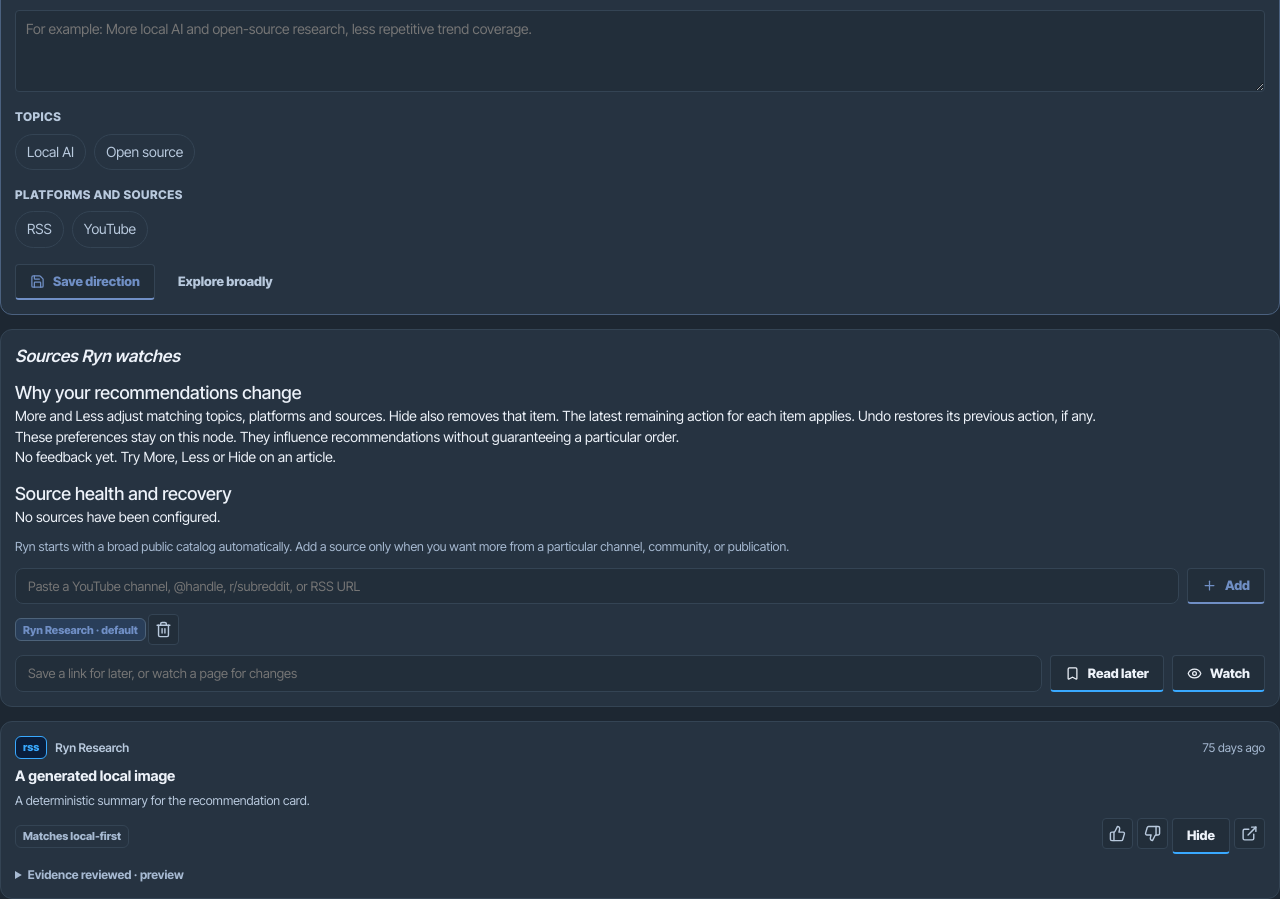
Test: DigestViewer formats › opens an image item without fetching live media
(page scrolled)
Click the button "A generated local image".
click(95, 776)  # box [15,765,1265,786]
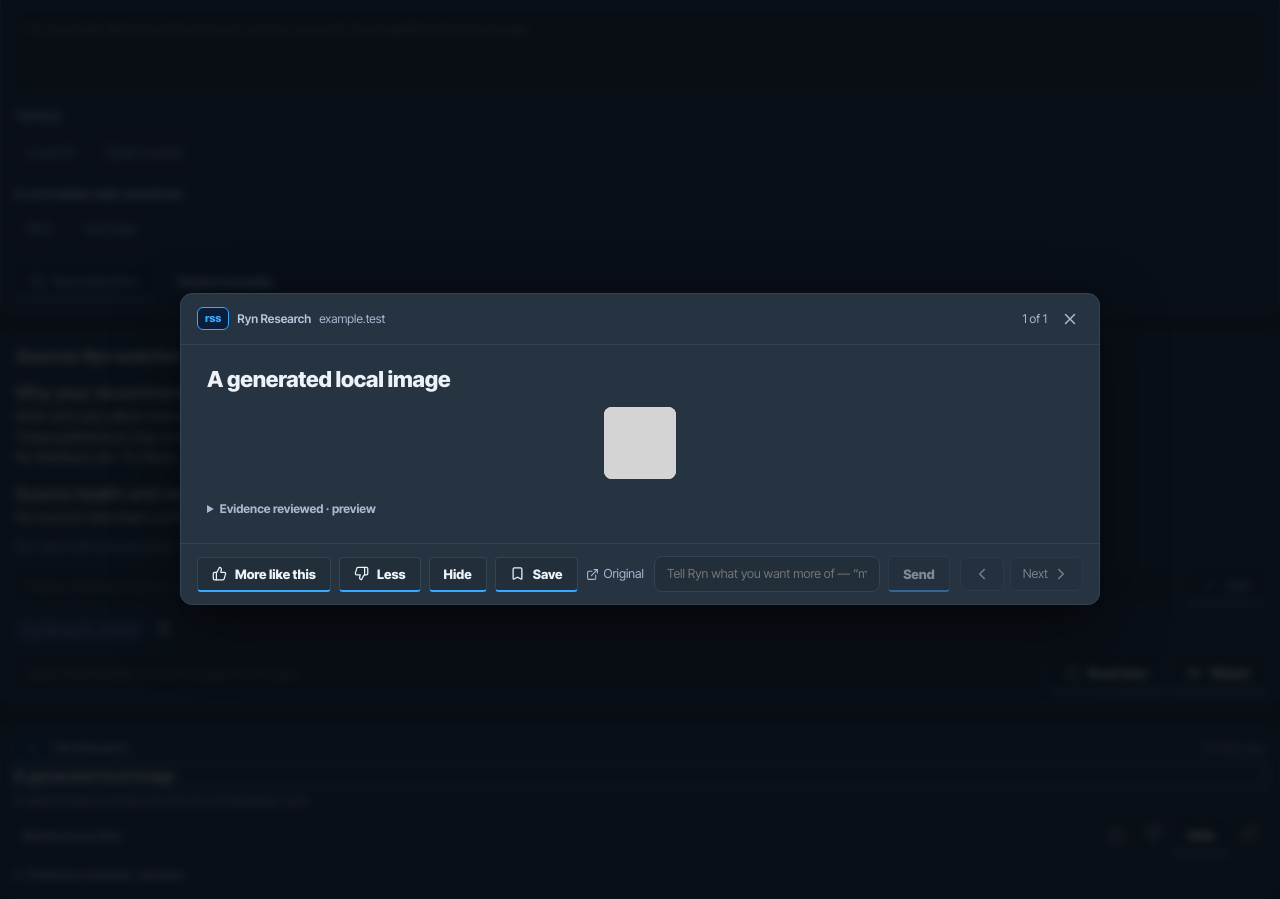
Check: the dialog "A generated local image" is shown, box [180,292,1100,606]
